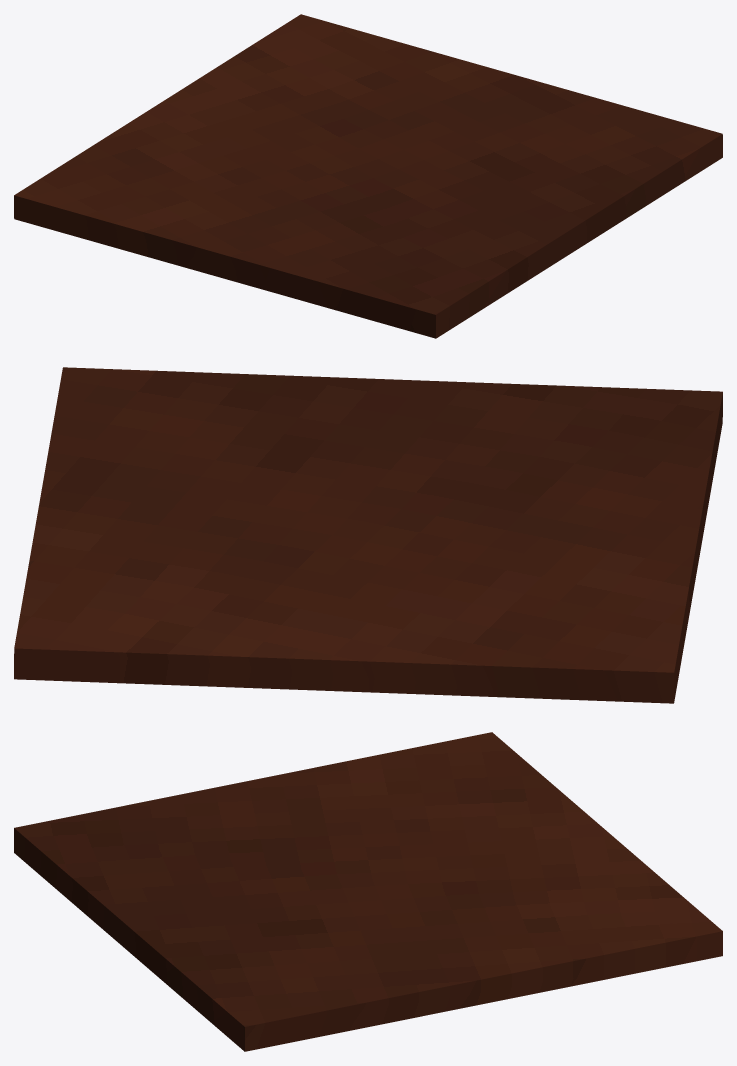
The model's file is GBWall.fbx.
3 renders of one model, top to bottom at view 1: azimuth 30°, elevation 25°; view 2: azimuth 150°, elevation 25°; view 3: azimuth 270°, elevation 25°, orthographic. The views are drawn at different scales.
Parts seen in each view (by area): view 1: Wall; view 2: Wall; view 3: Wall.
Boxes of the visible parts, x1,y1,x2,y2 form: Wall: [14, 14, 722, 338]; Wall: [14, 367, 722, 703]; Wall: [14, 732, 722, 1051].
Bounding box in the file's own units: 50.23 × 2.31 × 50.22.
